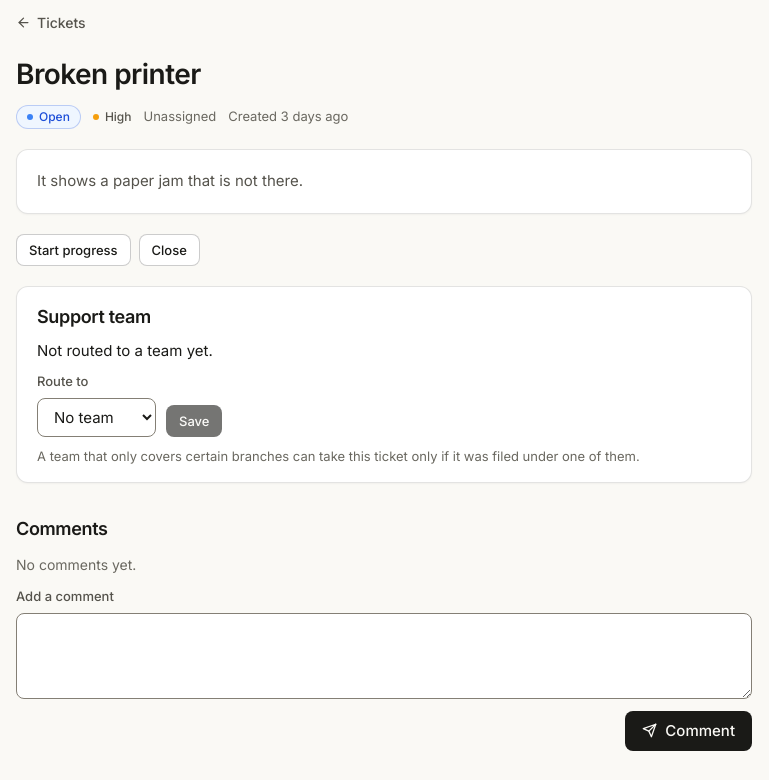
Test case: routing a ticket to a support team › renders the one generic refusal instead of guessing its cause
The width and height of the screenshot is (769, 780).
Step 1. Select "IT support" in the dropdown labelled "Route to" → (96,417), box [37,398,156,436]
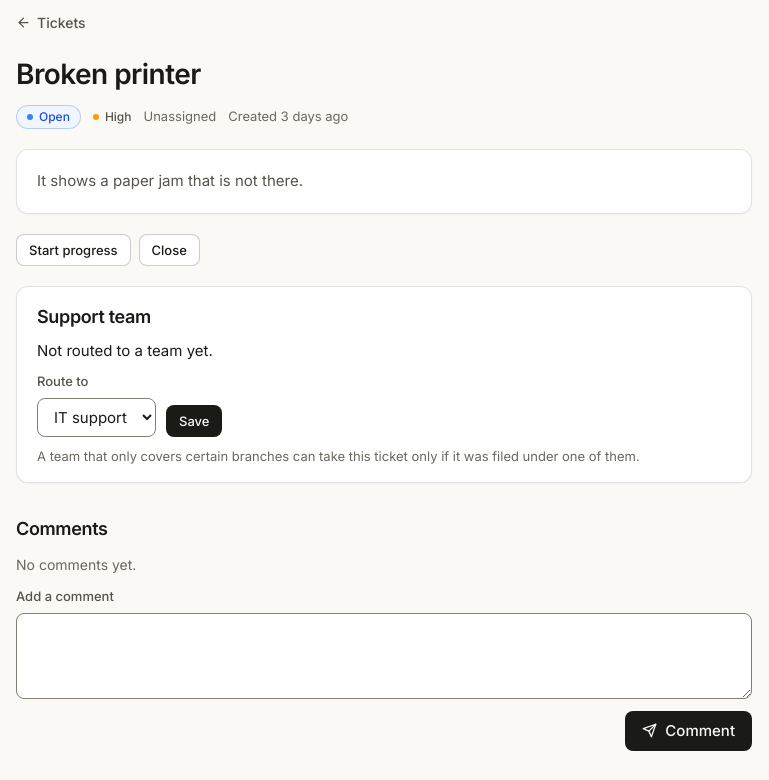
Step 2. Click the button "Save" → (194,420), box [166,404,222,436]
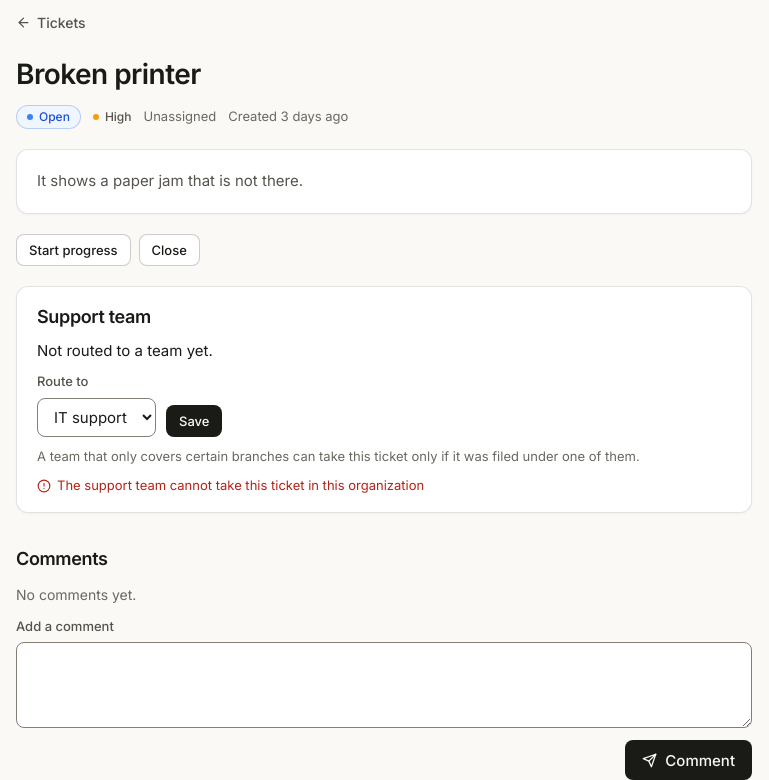
Expected: the text "The support team cannot take this ticket in this organization" is shown, [37,477,424,493]
